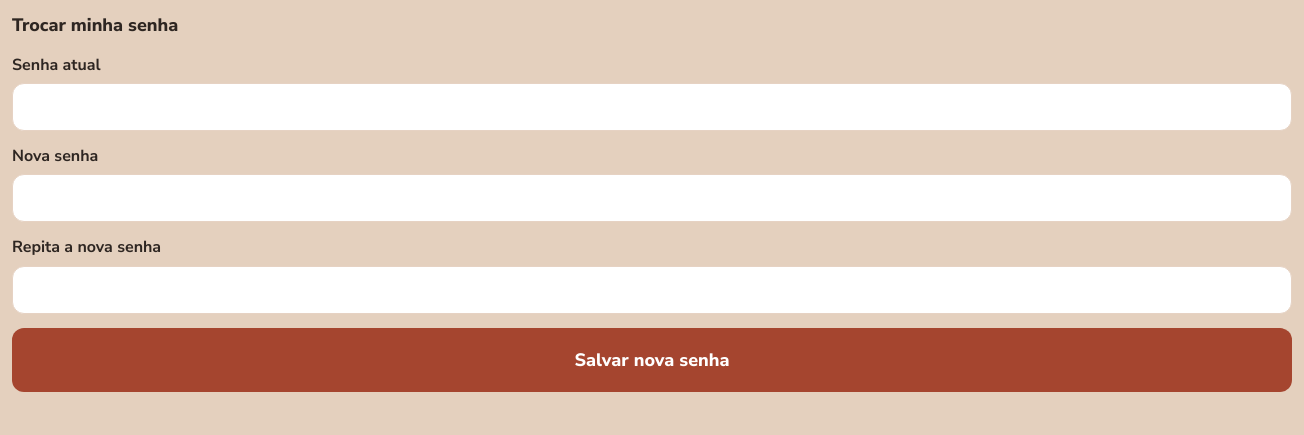
repetição diferente mostra erro
Type "senha-atual-1" into the password field labelled "Senha atual" at (652, 107), box [12,83,1292,131]
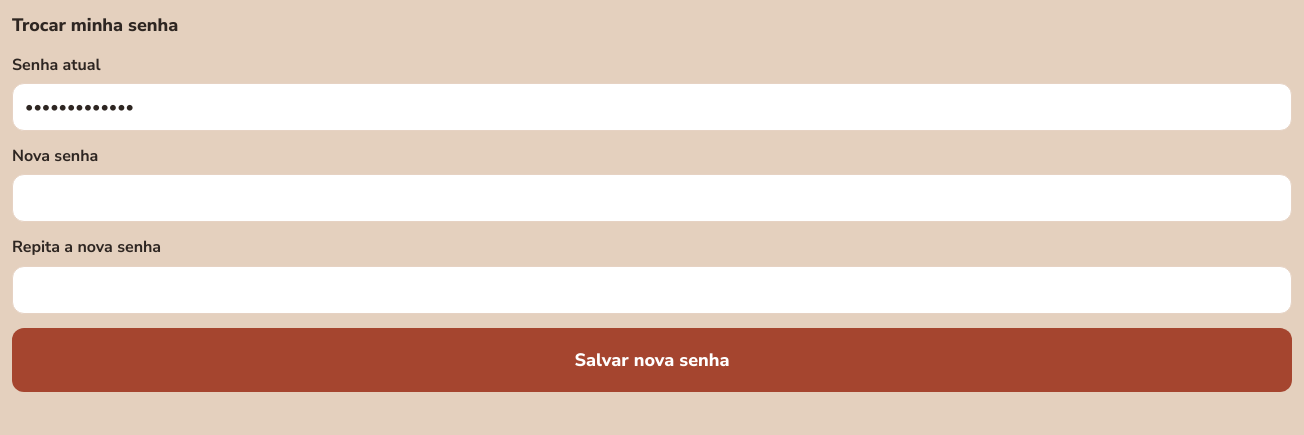
Type "nova-senha-123" into the password field labelled "Nova senha" at (652, 198), box [12,174,1292,222]
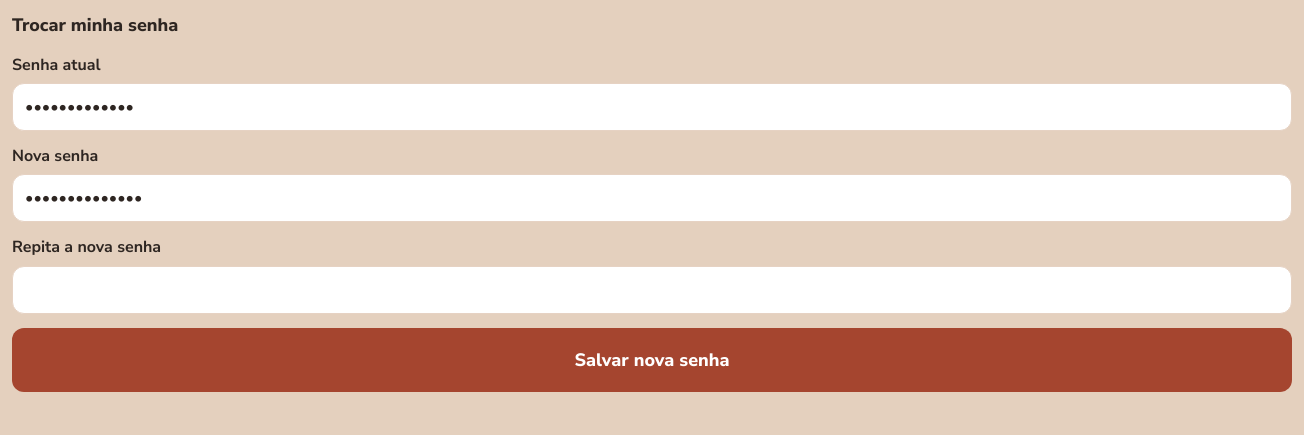
Type "outra-senha-123" into the password field labelled "Repita a nova senha" at (652, 290), box [12,266,1292,314]
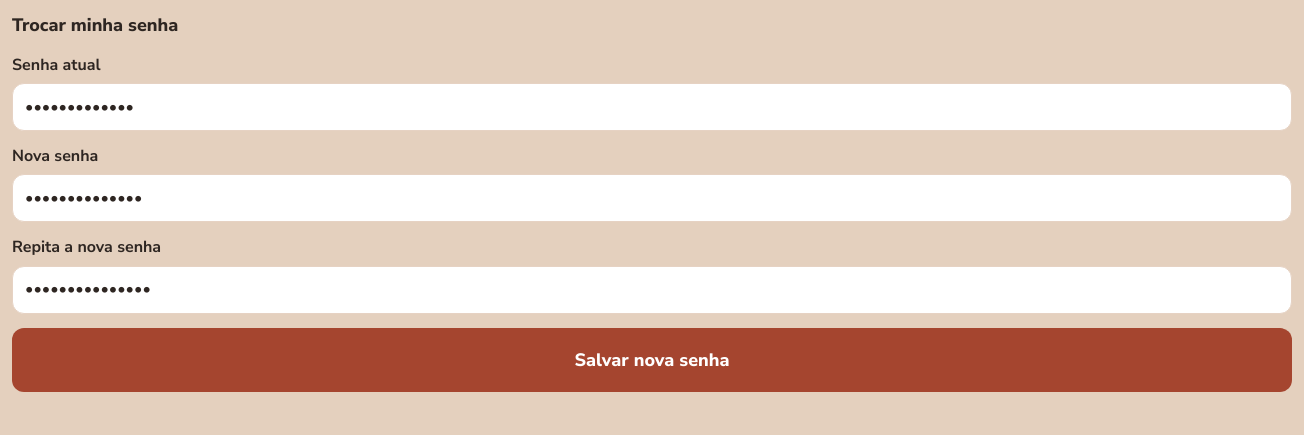
Click the button "Salvar nova senha" at (652, 360), box [12,328,1292,392]
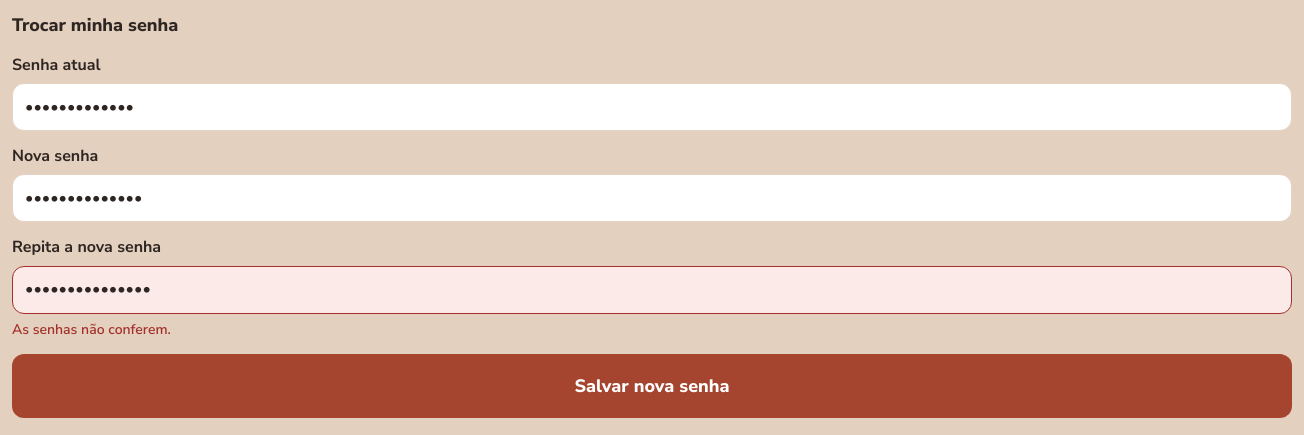
Now the text "As senhas não conferem." is shown, box [12,320,171,339]
